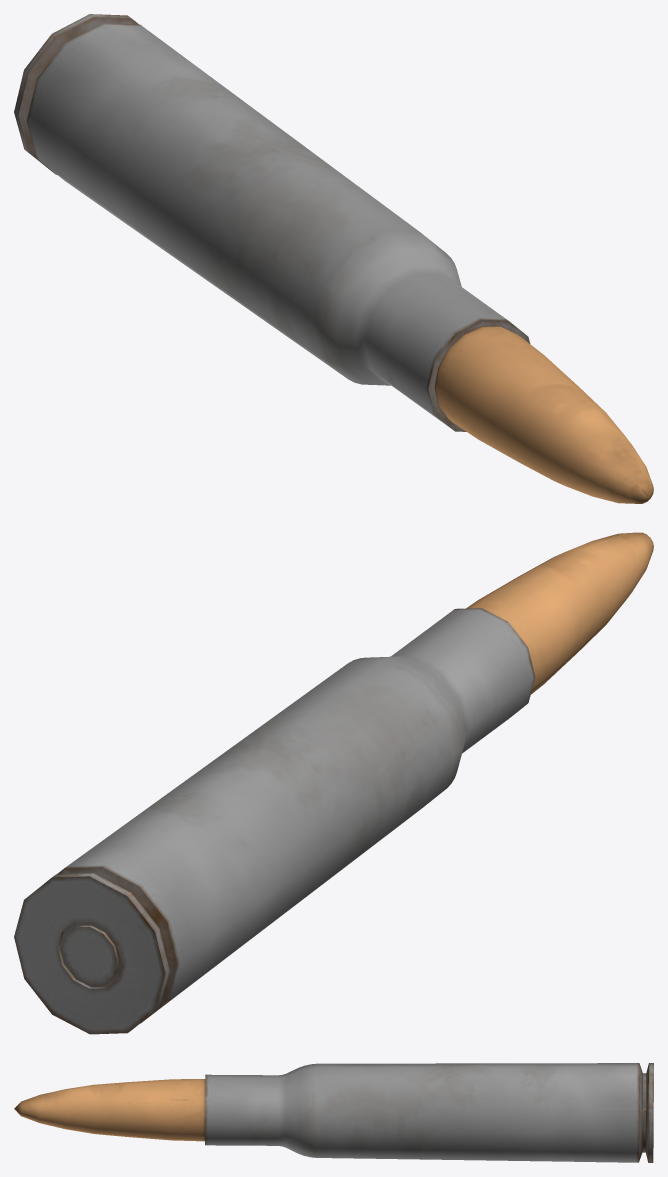
The model's file is bullet.fbx.
The picture shows the model from 3 angles, top to bottom: view 1: azimuth 30°, elevation 25°; view 2: azimuth 150°, elevation 25°; view 3: azimuth 270°, elevation 25°; orthographic projection. The views are drawn at different scales.
Visible parts, largest first — view 1: Sphere.003; view 2: Sphere.003; view 3: Sphere.003.
Part boxes in pixels (<box>): Sphere.003: <box>14,14,653,503</box>; Sphere.003: <box>14,532,653,1034</box>; Sphere.003: <box>14,1063,653,1162</box>.
Size of the model in its own units: 160 by 161 by 1026.
